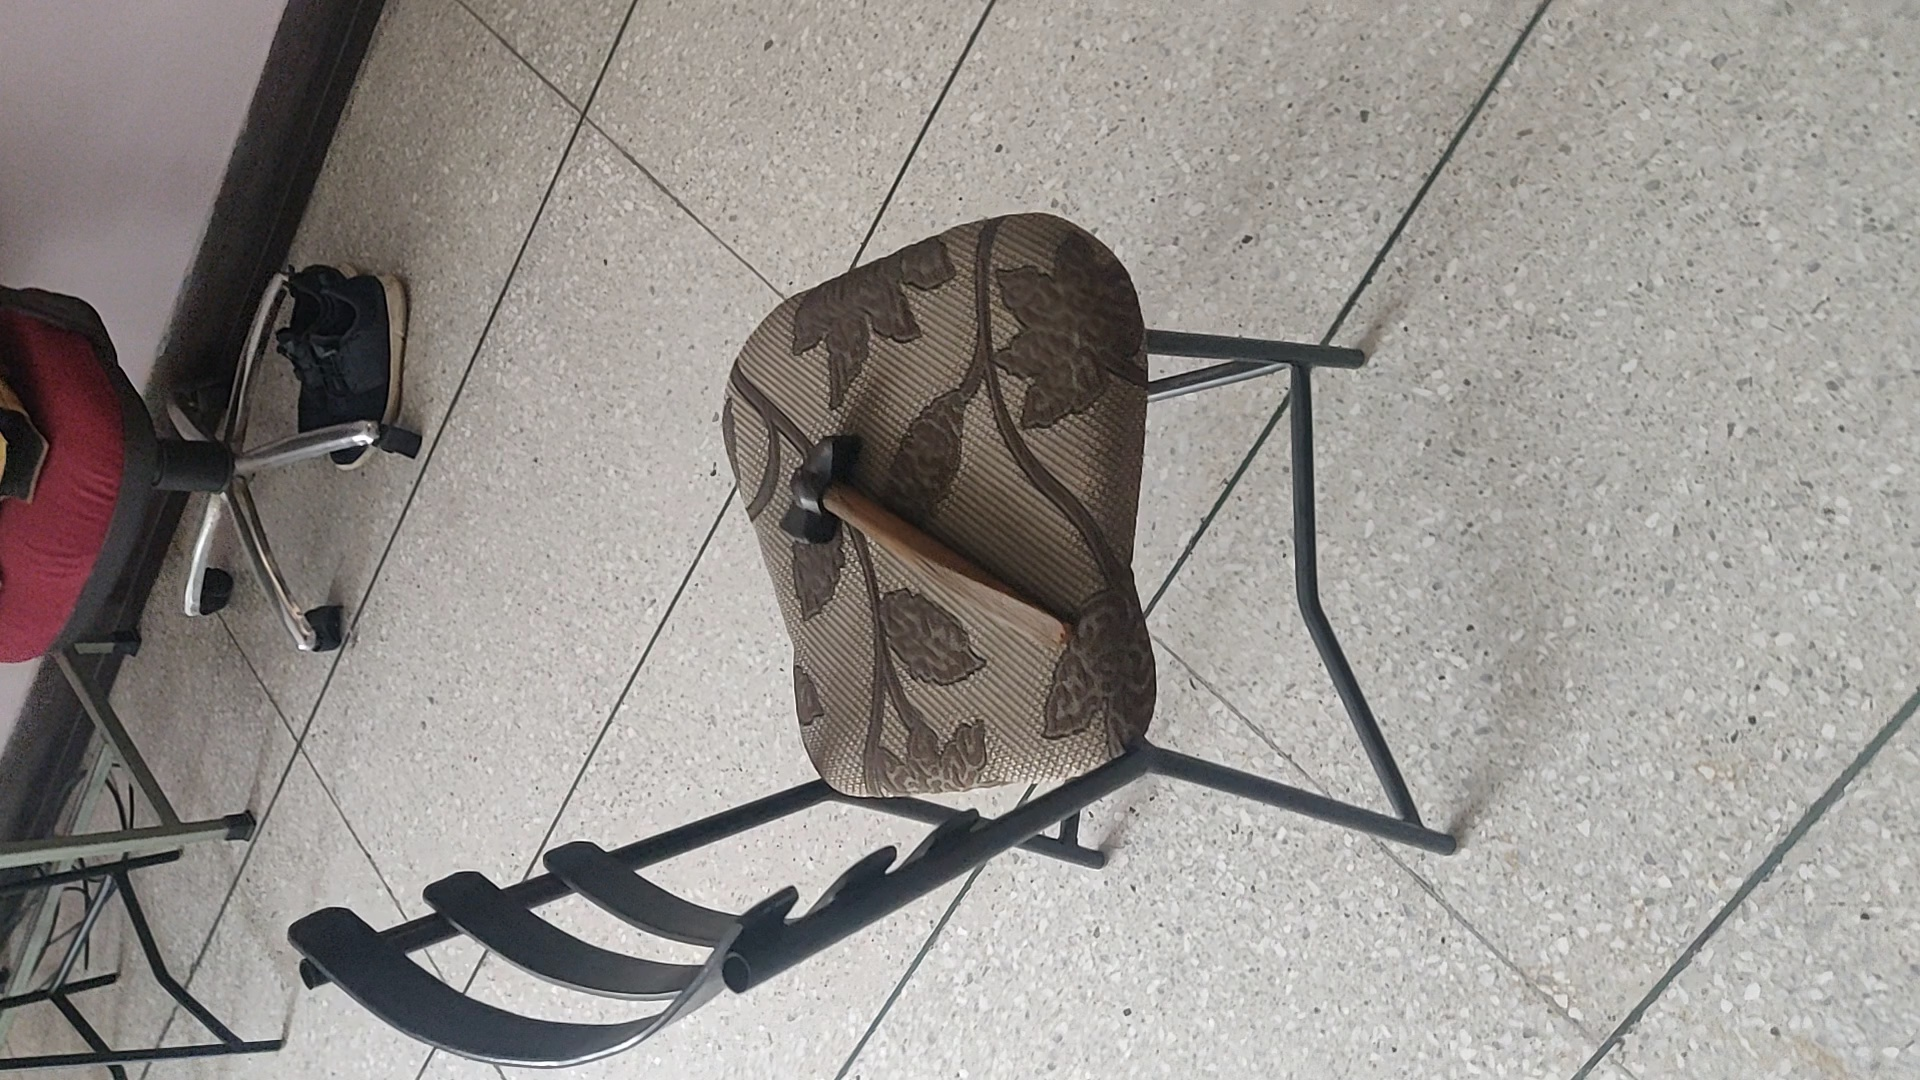hammer: (778, 434, 1068, 655)
